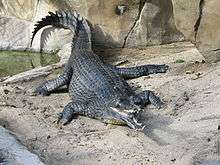Crocodile: (29, 9, 170, 130)
